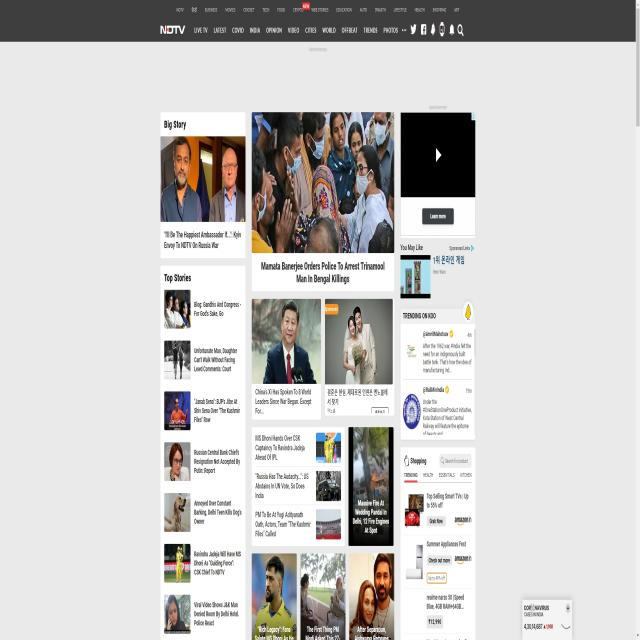side-panel: (399, 305, 478, 639)
tab-bar: (192, 18, 464, 38)
